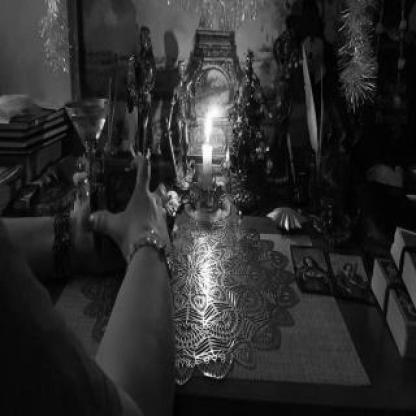fire: (198, 104, 219, 143)
